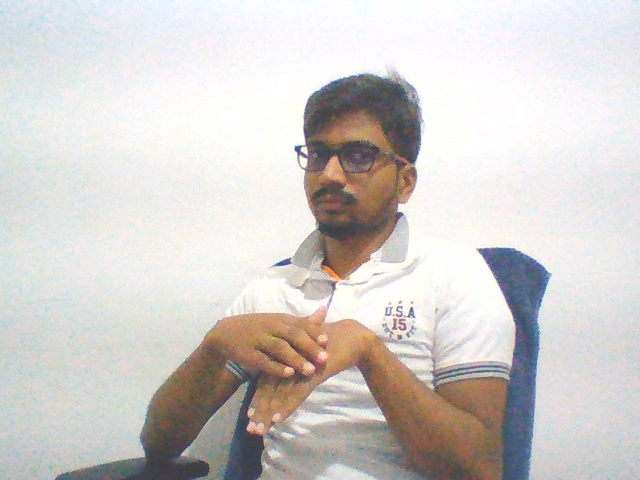pineapple: (203, 300, 378, 436)
